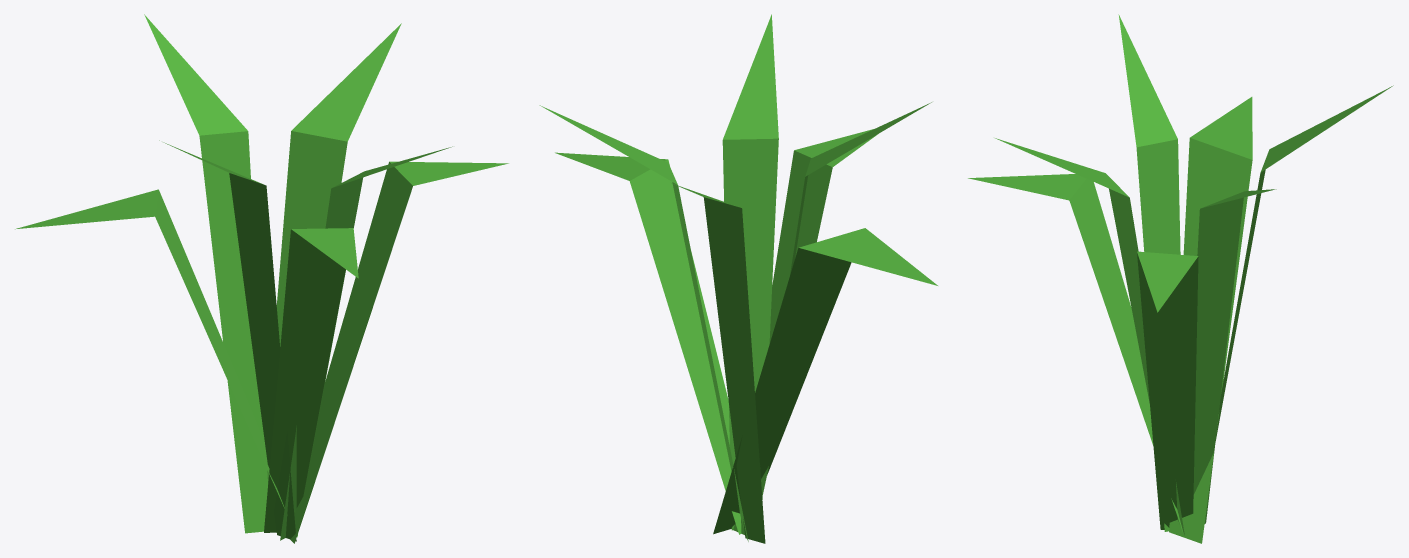
The model's file is grass_05.fbx.
The picture shows the model from 3 angles, left to right: view 1: azimuth 30°, elevation 25°; view 2: azimuth 150°, elevation 25°; view 3: azimuth 270°, elevation 25°; orthographic projection. The views are drawn at different scales.
Visible parts, largest first — view 1: grass_05; view 2: grass_05; view 3: grass_05.
Part boxes in pixels (<box>): grass_05: <box>15,14,508,543</box>; grass_05: <box>539,14,937,543</box>; grass_05: <box>968,14,1393,543</box>.
Bounding box in the file's own units: 54.68 × 53.87 × 47.11.
